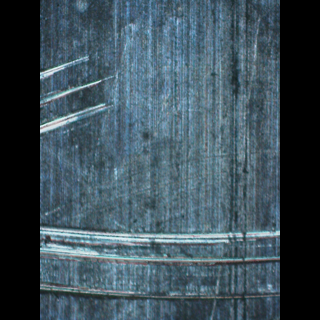d: (41, 217, 280, 304), (40, 38, 121, 144)
